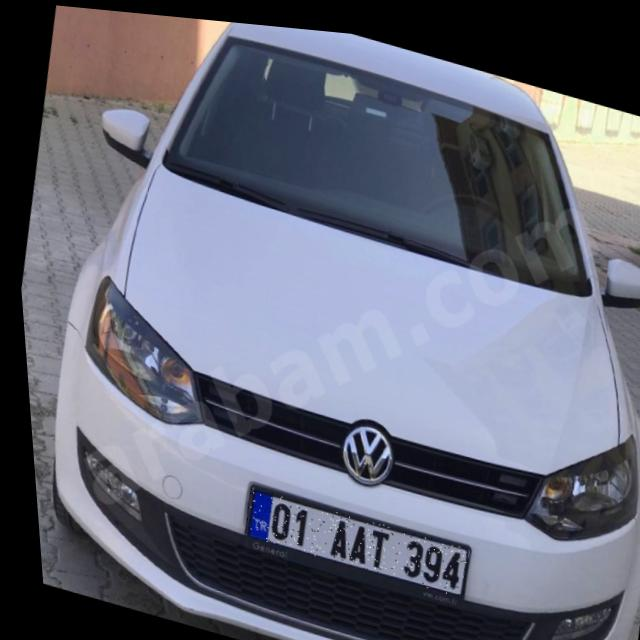license_plate: (234, 481, 463, 590)
